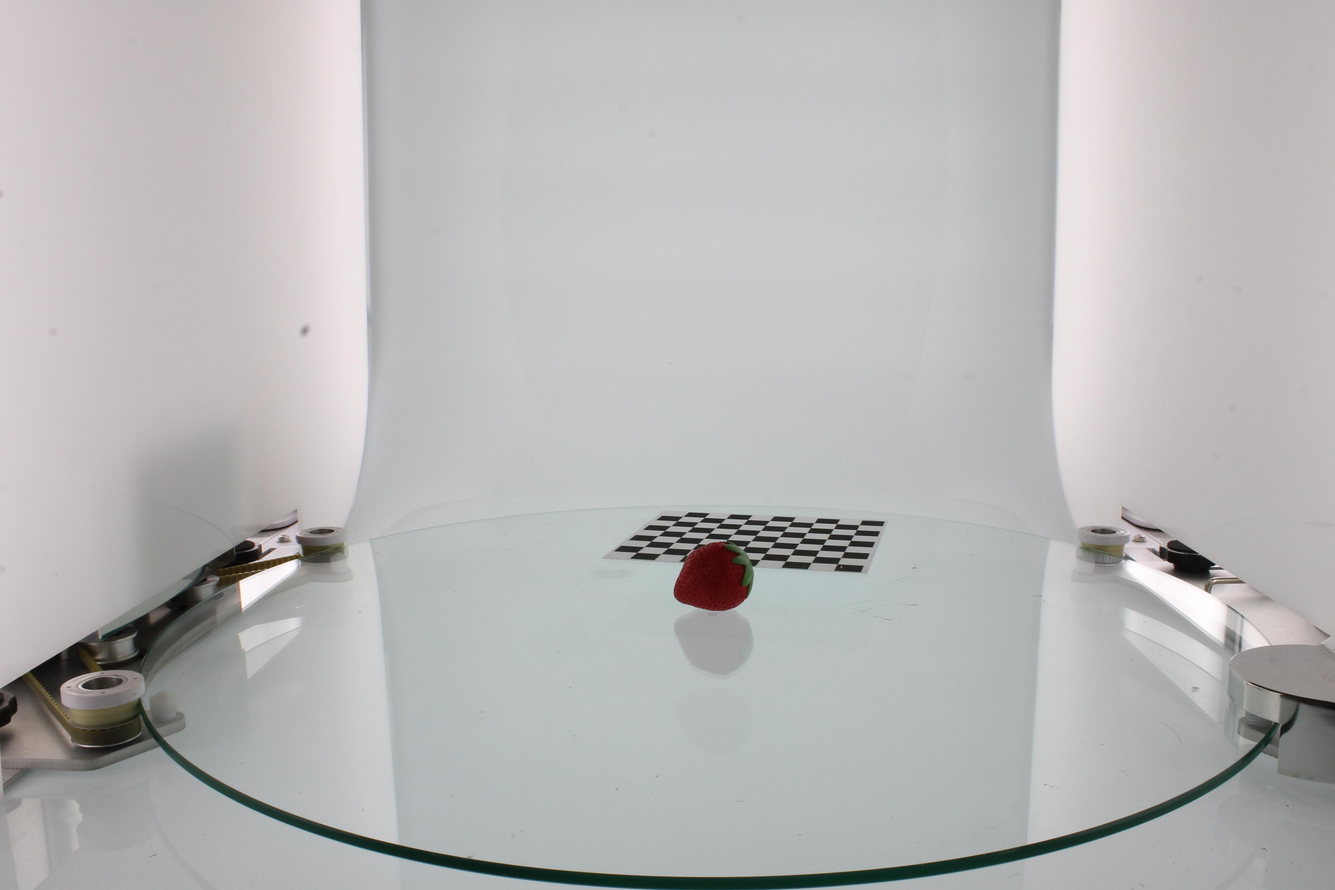strawberry: (674, 542, 754, 611)
